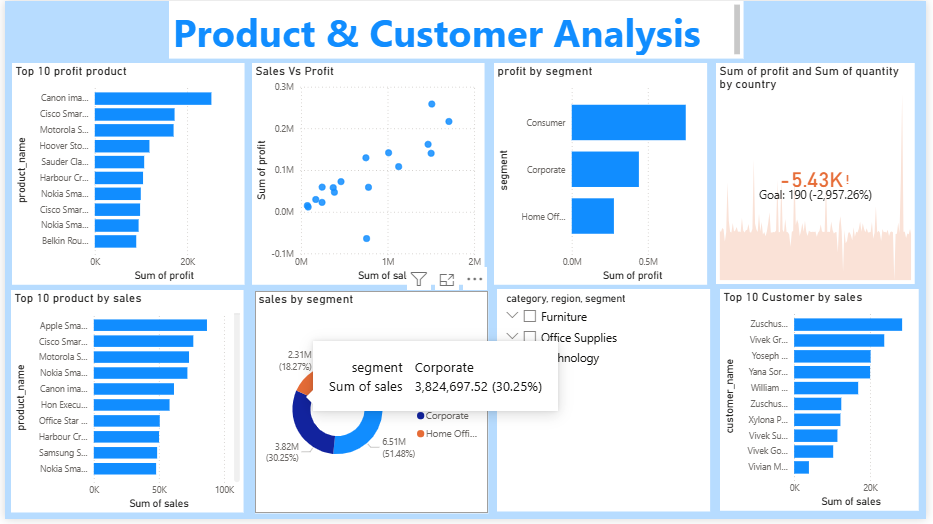

This screenshot's page, from the dashboard's own definition file:
{"tool":"powerbi","page":{"name":"Page 2","canvas":[1280,720],"ordinal":1},"visuals":[{"type":"scatterChart","title":"Sales Vs Profit","fields":{"X":["Sum(public sales_dashboard_clean.sales)"],"Category":["public sales_dashboard_clean.sub_category"],"Y":["Sum(public sales_dashboard_clean.profit)"]},"box":[343,86.1,322.8,307.6],"z":0},{"type":"slicer","fields":{"Values":["public sales_dashboard_clean.category","public sales_dashboard_clean.region","public sales_dashboard_clean.segment"]},"box":[683.5,400,296.2,308.9],"z":1000},{"type":"clusteredBarChart","title":"Top 10 product by sales","fields":{"Category":["public sales_dashboard_clean.product_name"],"Y":["Sum(public sales_dashboard_clean.sales)"]},"box":[8.9,401.3,322.8,308.9],"z":2000},{"type":"clusteredBarChart","title":"Top 10 profit product","fields":{"Category":["public sales_dashboard_clean.product_name"],"Y":["Sum(public sales_dashboard_clean.profit)"]},"box":[10.1,86.1,322.8,307.6],"z":3000},{"type":"donutChart","title":"sales by segment","fields":{"Category":["public sales_dashboard_clean.segment"],"Y":["Sum(public sales_dashboard_clean.sales)"]},"box":[346.8,402.5,324.1,308.9],"z":4000},{"type":"clusteredBarChart","title":"profit by segment","fields":{"Category":["public sales_dashboard_clean.segment"],"Y":["Sum(public sales_dashboard_clean.profit)"]},"box":[678.9,85.5,296.1,307.9],"z":5000},{"type":"clusteredBarChart","title":"Top 10 Customer by sales","fields":{"Category":["public sales_dashboard_clean.customer_name"],"Y":["Sum(public sales_dashboard_clean.sales)"]},"box":[993.7,400,275.9,307.6],"z":6000},{"type":"kpi","fields":{"Indicator":["Sum(public sales_dashboard_clean.profit)"],"TrendLine":["public sales_dashboard_clean.country"],"Goal":["Sum(public sales_dashboard_clean.quantity)"]},"box":[988.2,85.5,276.3,306.6],"z":7000},{"type":"textbox","box":[227.5,0,798,80.4],"z":8000}]}

Visuals, with their boxes in screenshot pixels (x1, y1, x2, y2), scaled from the page's 1280x720 canvas onto the 933x524 screenshot:
"Sales Vs Profit" scatterChart: rect(250, 63, 485, 287)
slicer - public sales_dashboard_clean.category x public sales_dashboard_clean.region: rect(498, 291, 714, 516)
"Top 10 product by sales" clusteredBarChart: rect(6, 292, 242, 517)
"Top 10 profit product" clusteredBarChart: rect(7, 63, 243, 287)
"sales by segment" donutChart: rect(253, 293, 489, 518)
"profit by segment" clusteredBarChart: rect(495, 62, 711, 286)
"Top 10 Customer by sales" clusteredBarChart: rect(724, 291, 925, 515)
kpi - Sum(public sales_dashboard_clean.profit) x public sales_dashboard_clean.country: rect(720, 62, 922, 285)
textbox: rect(166, 0, 747, 59)
